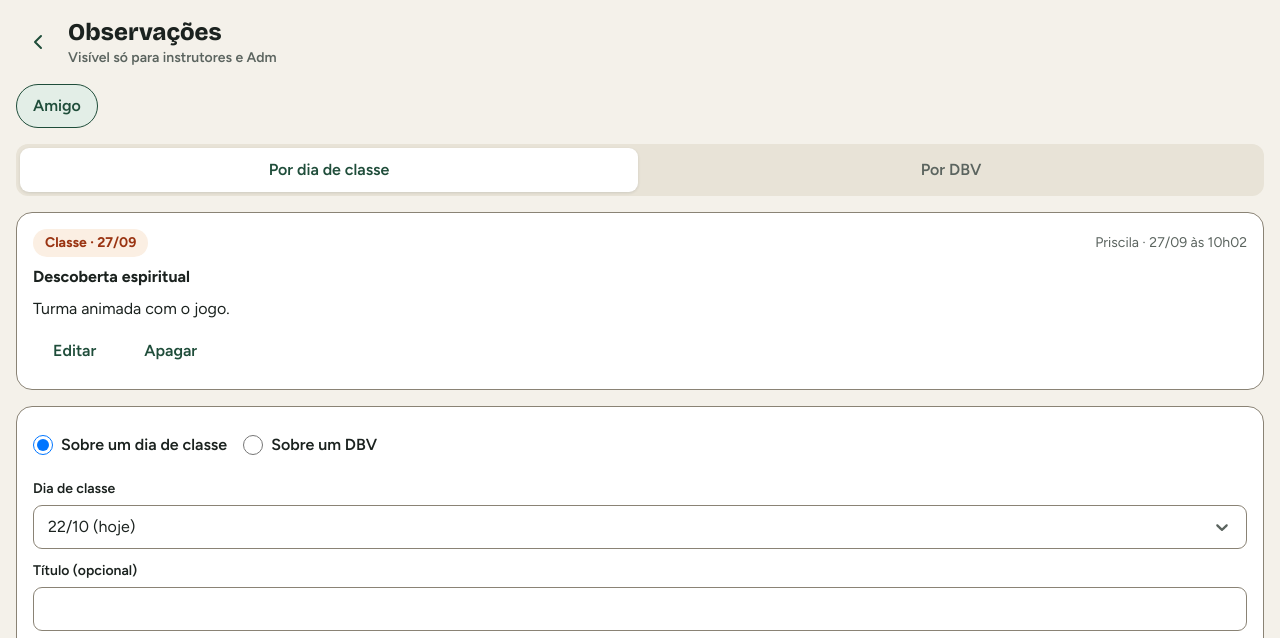
Scenario: Observações › a aba Por DBV mostra as sobre desbravadores
Expected: the text "Turma animada com o jogo." is shown, [33,299,230,318]
Click the tab "Por DBV". click: (951, 170)
box: [642,148,1260,192]
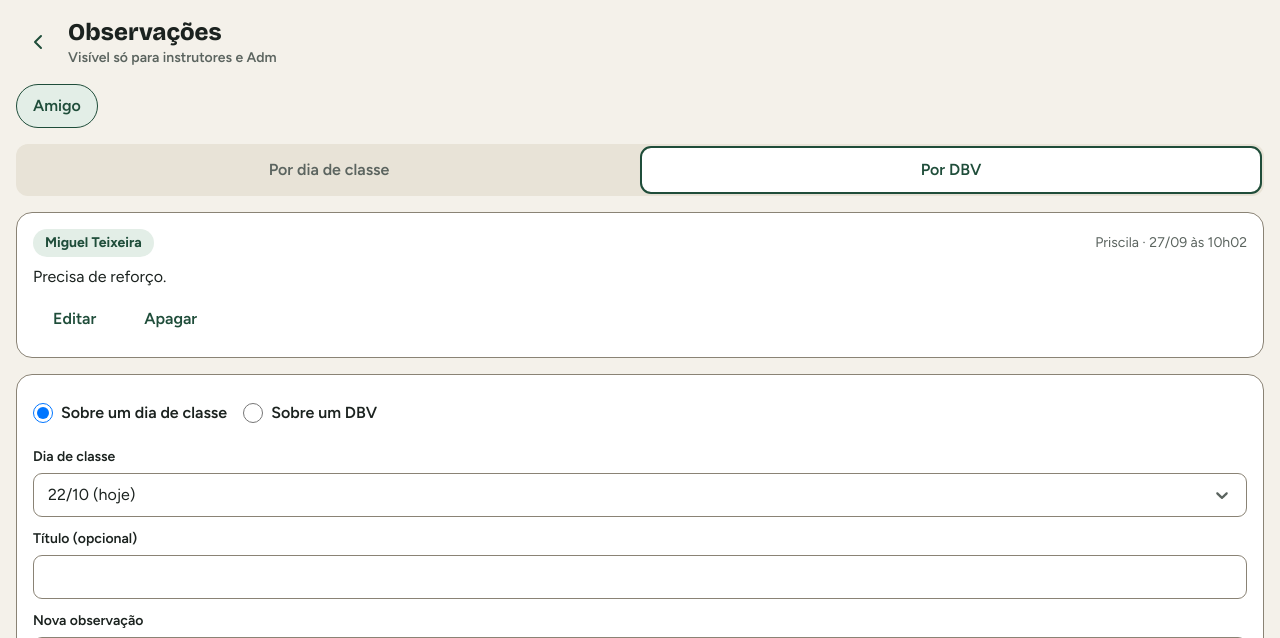
Now the text "Precisa de reforço." is shown, box [33,267,166,286]
Now the text "Miguel Teixeira" is shown, box [45,233,142,253]
